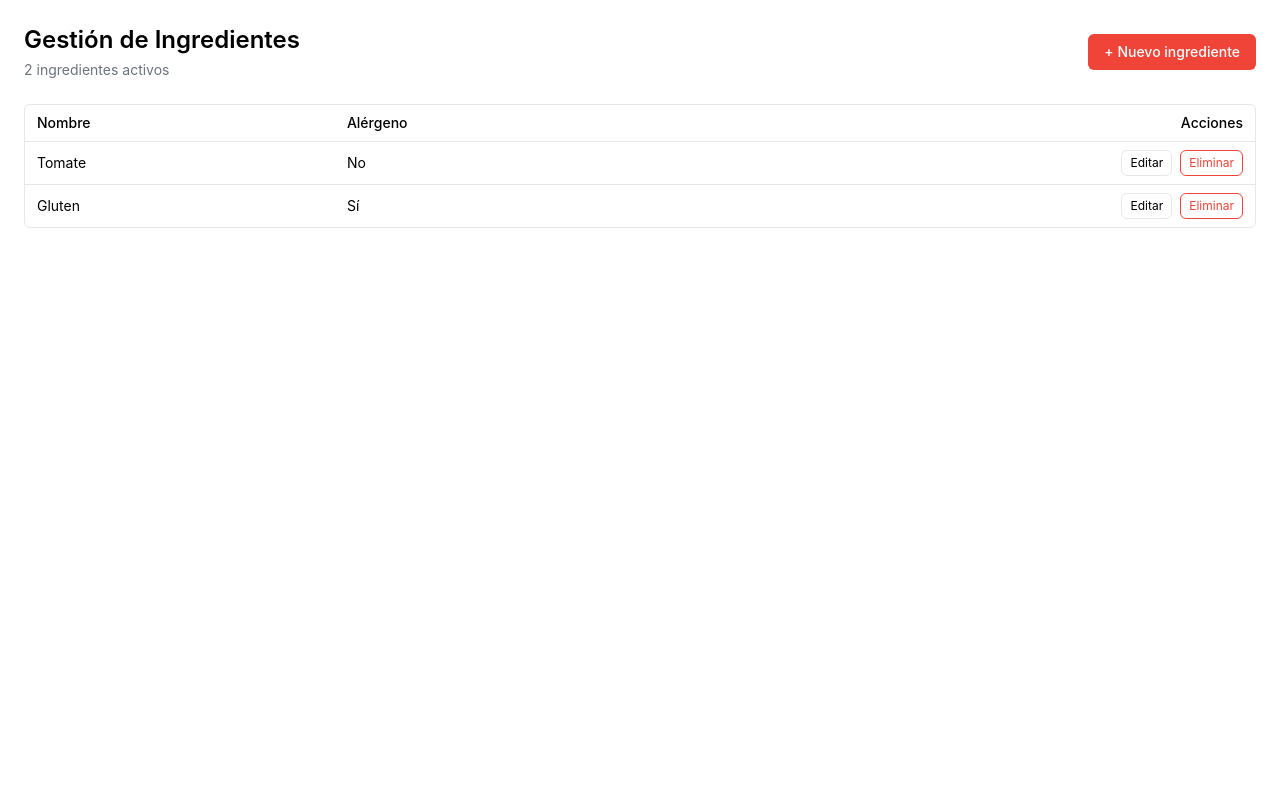
Test: StockIngredientsPage › opens edit modal with pre-populated name when "Editar" is clicked
Step 1. Click the button "Editar" in the row of "Tomate" → (1147, 163), box [1122,150,1172,176]
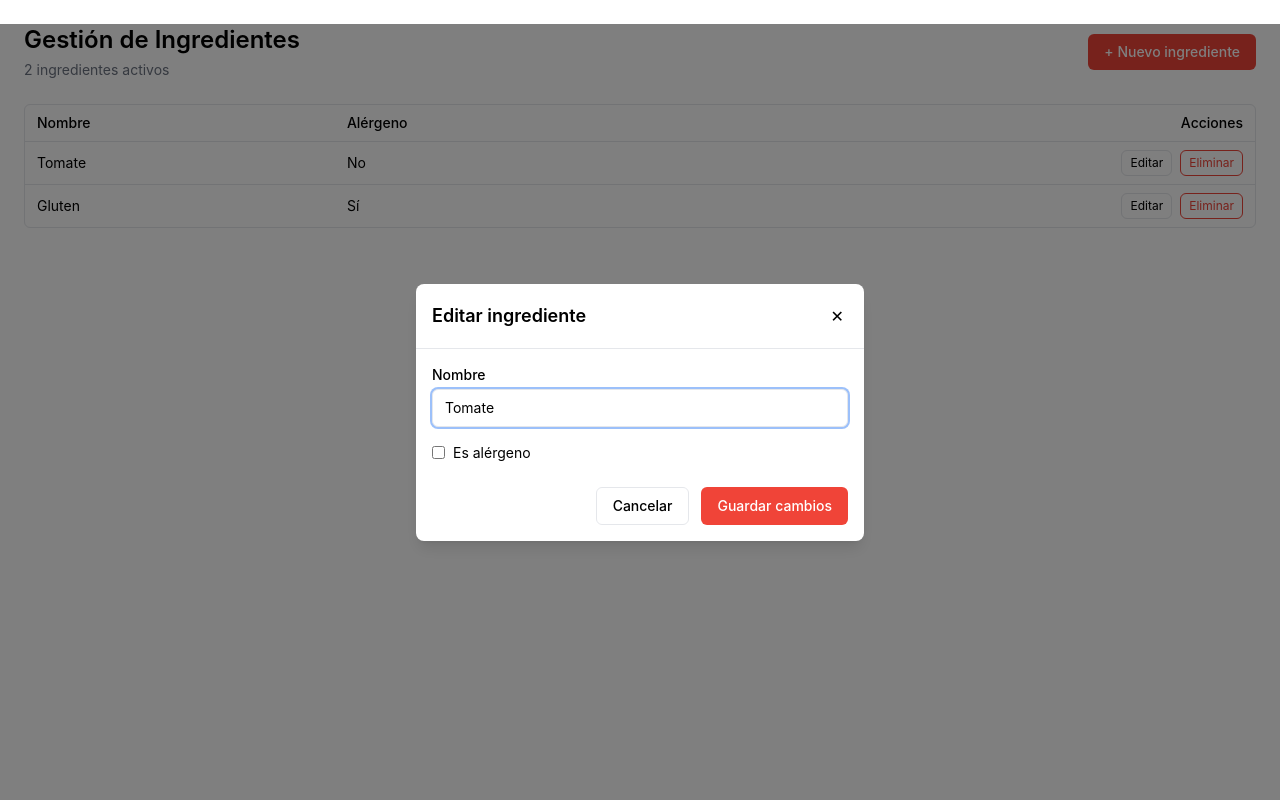
Now the dialog is shown
Now the field labelled "Nombre" holds "Tomate", box [432,388,848,426]
